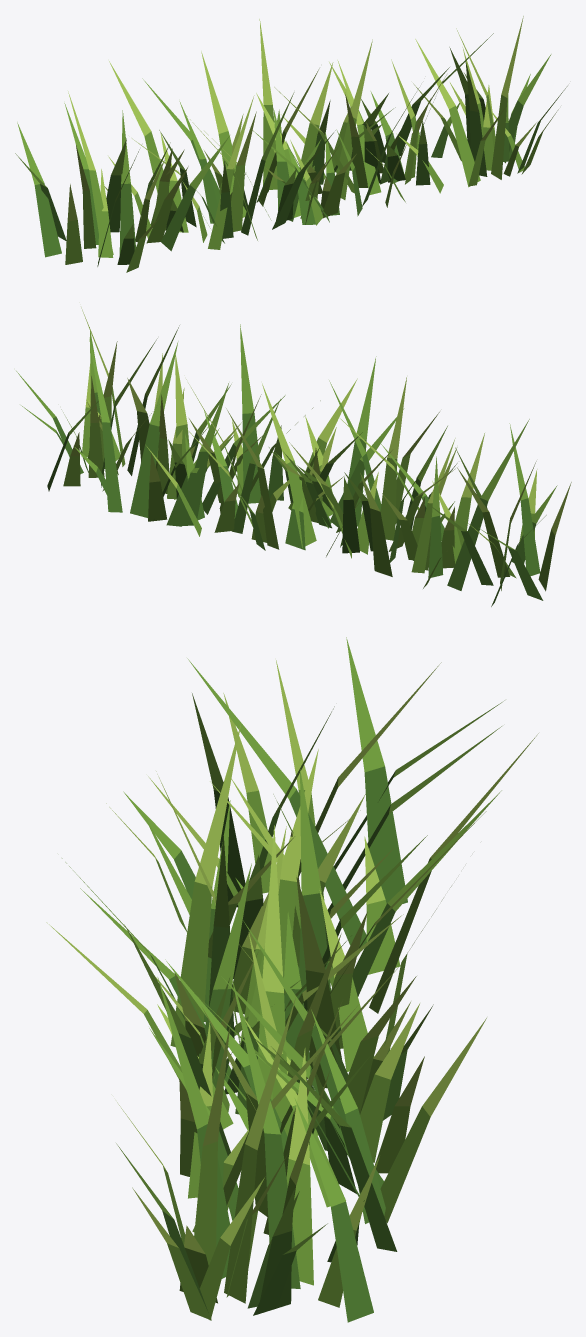
The model's file is G11_RoadsideGrassStrip3M.glb.
The picture shows the model from 3 angles, top to bottom: view 1: azimuth 30°, elevation 25°; view 2: azimuth 150°, elevation 25°; view 3: azimuth 270°, elevation 25°; orthographic projection. The views are drawn at different scales.
Visible parts, largest first — view 1: G11_RoadsideGrassStrip3M; view 2: G11_RoadsideGrassStrip3M; view 3: G11_RoadsideGrassStrip3M.
Part boxes in pixels (<box>): G11_RoadsideGrassStrip3M: <box>15,16,567,272</box>; G11_RoadsideGrassStrip3M: <box>16,307,571,606</box>; G11_RoadsideGrassStrip3M: <box>46,637,538,1322</box>.
Bounding box in the file's own units: 3.43 × 0.9478 × 1.4.
